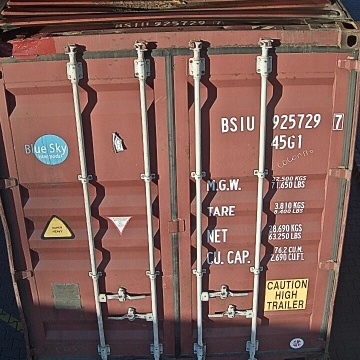serial_id: (222, 113, 343, 131)
